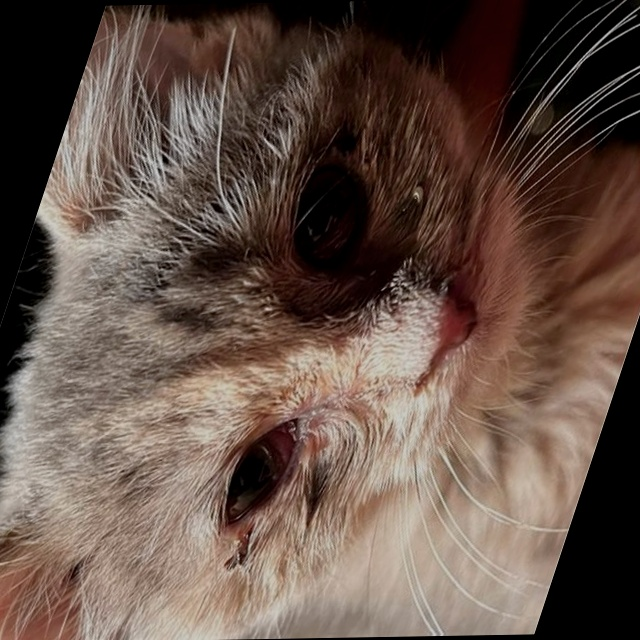eye_infection: (223, 418, 310, 516), (281, 171, 374, 259)
